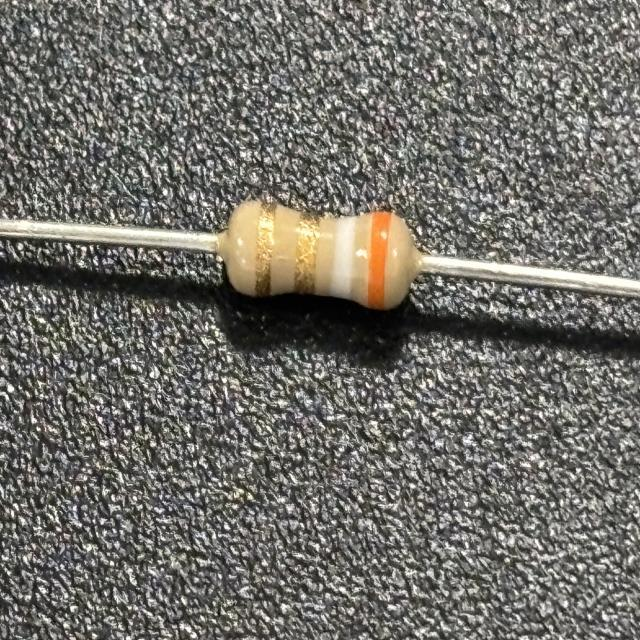resistor: (222, 192, 422, 316)
